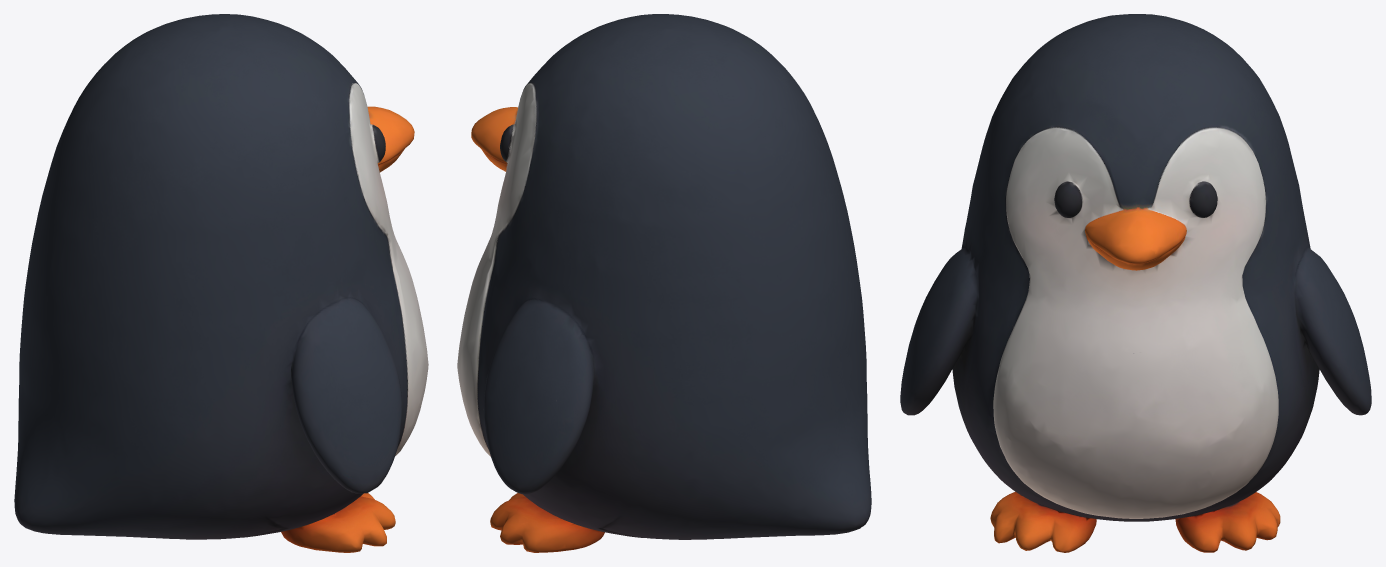
Rendered from penguin.glb.
The picture shows the model from 3 angles, left to right: view 1: azimuth 30°, elevation 25°; view 2: azimuth 150°, elevation 25°; view 3: azimuth 270°, elevation 25°; orthographic projection. The views are drawn at different scales.
Parts seen in each view (by area): view 1: tripo_node_b3d595cb-5766-4580-a556-c83cebfa71a0; view 2: tripo_node_b3d595cb-5766-4580-a556-c83cebfa71a0; view 3: tripo_node_b3d595cb-5766-4580-a556-c83cebfa71a0.
Boxes of the visible parts, box(x1,y1,x2,y2) form: tripo_node_b3d595cb-5766-4580-a556-c83cebfa71a0: box(14, 14, 428, 552); tripo_node_b3d595cb-5766-4580-a556-c83cebfa71a0: box(457, 14, 871, 552); tripo_node_b3d595cb-5766-4580-a556-c83cebfa71a0: box(900, 14, 1371, 552).
Size of the model in its own units: 0.8403 by 1 by 0.9065.
1 material, 1 textured.
